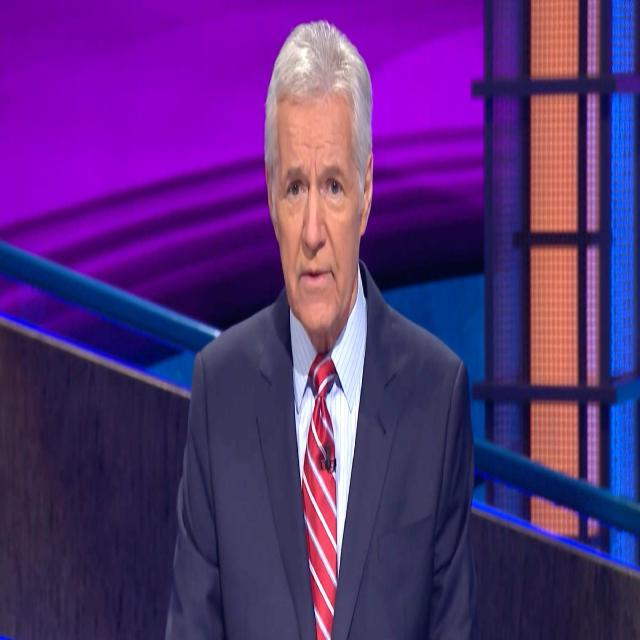human: (164, 19, 485, 640)
